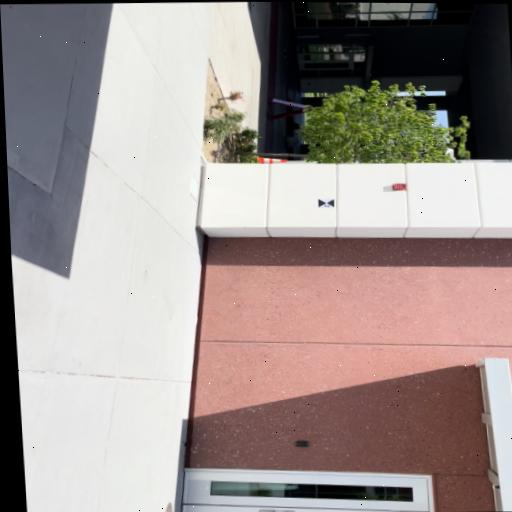target2: (317, 198, 335, 208)
